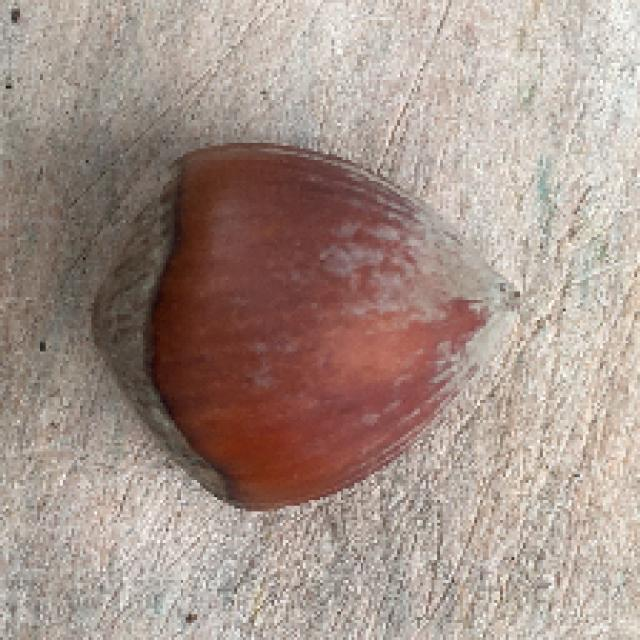qualityHazelnut: (77, 139, 526, 520)
